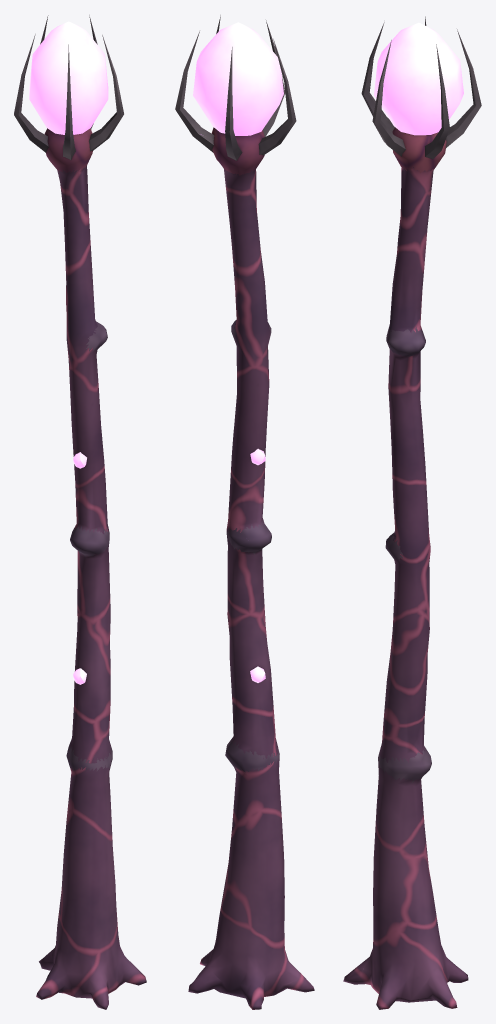
File: faro_bioluminiscente.fbx
3 renders of one model, left to right at view 1: azimuth 90°, elevation 25°; view 2: azimuth 150°, elevation 25°; view 3: azimuth 330°, elevation 25°, orthographic.
Parts seen in each view (by area): view 1: faro, bulbo_neon; view 2: faro, bulbo_neon; view 3: faro, bulbo_neon.
Boxes of the visible parts, x1=… form: faro: x1=14, y1=15, x2=146, y2=1009; bulbo_neon: x1=29, y1=21, x2=108, y2=684; faro: x1=175, y1=15, x2=314, y2=1009; bulbo_neon: x1=193, y1=22, x2=283, y2=682; faro: x1=343, y1=16, x2=481, y2=1009; bulbo_neon: x1=374, y1=22, x2=463, y2=135.
Size of the model in its own units: 0.9826 by 8 by 1.
1 material, 1 textured.
